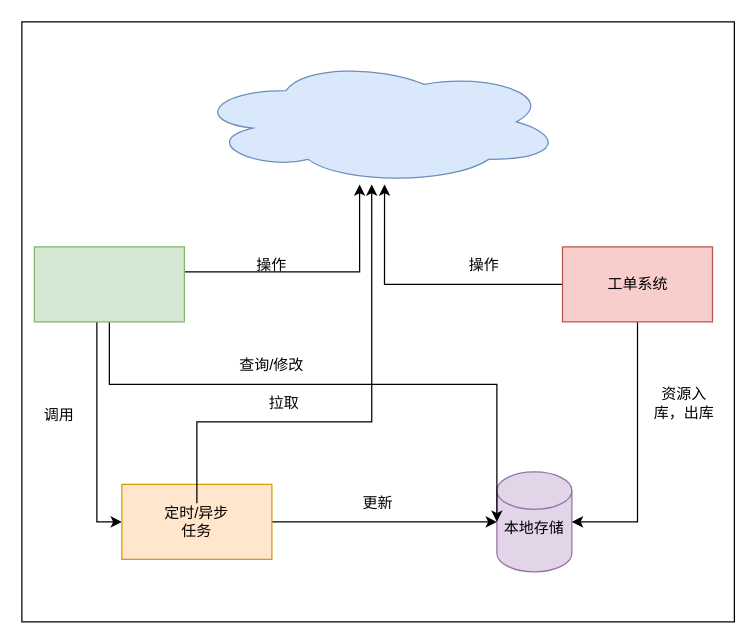
Some shapes in this 756 by 644 pixel diagram are drawn without their labels. The shapes that lost their labels are listed below. From the top down, each one's centre as x and y in pixels, then its label:
At (377,121): "云供应商".
At (108,284): "功能平台".
